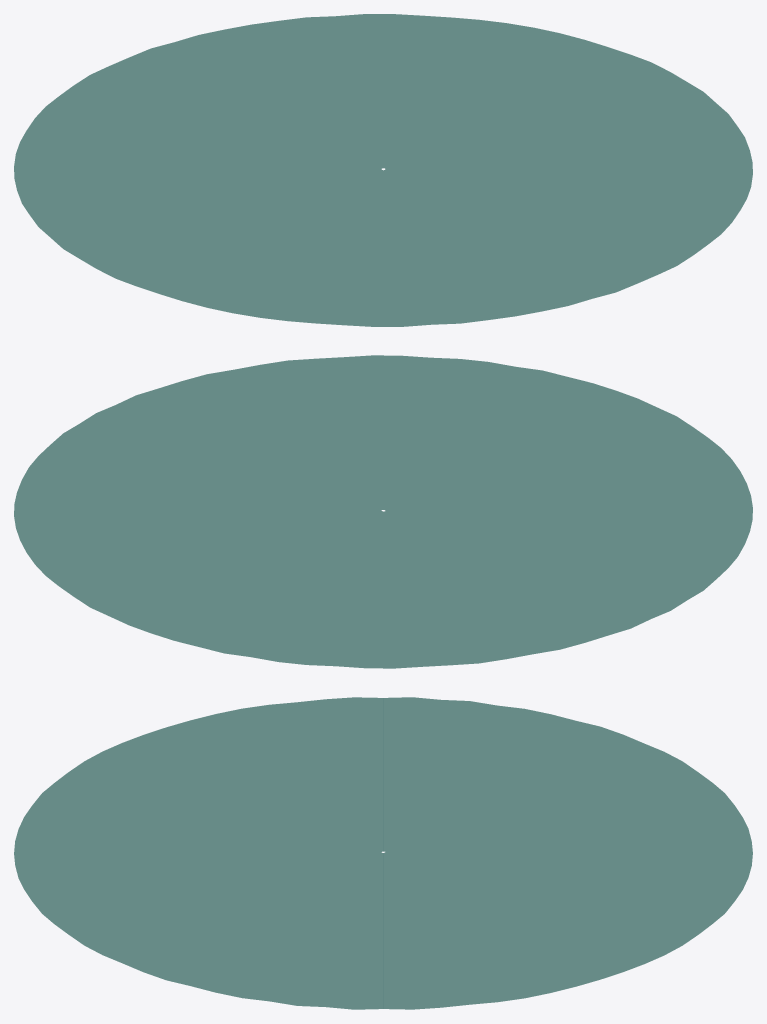
The model's file is water.glb.
The picture shows the model from 3 angles, top to bottom: view 1: azimuth 30°, elevation 25°; view 2: azimuth 150°, elevation 25°; view 3: azimuth 270°, elevation 25°; orthographic projection.
Visible parts, largest first — view 1: Basin_Water_Surface; view 2: Basin_Water_Surface; view 3: Basin_Water_Surface.
Boxes of the visible parts, x1,y1,x2,y2 form: Basin_Water_Surface: (14,14,752,326); Basin_Water_Surface: (14,355,752,668); Basin_Water_Surface: (14,697,752,1009).
Bounding box in the file's own units: 7.58 × 0.0376 × 7.58.
